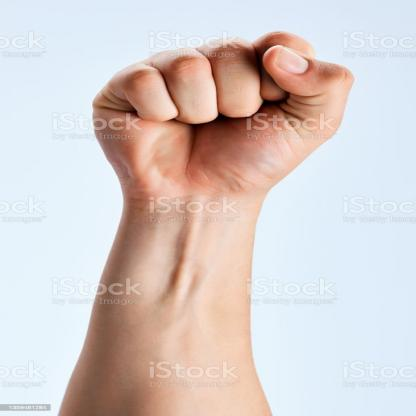fist: (65, 25, 372, 213)
